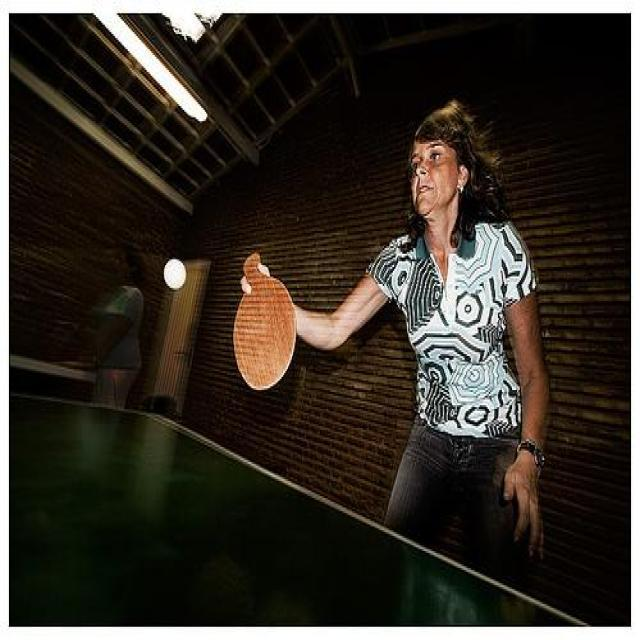ping-pong-ball: (164, 256, 188, 291)
